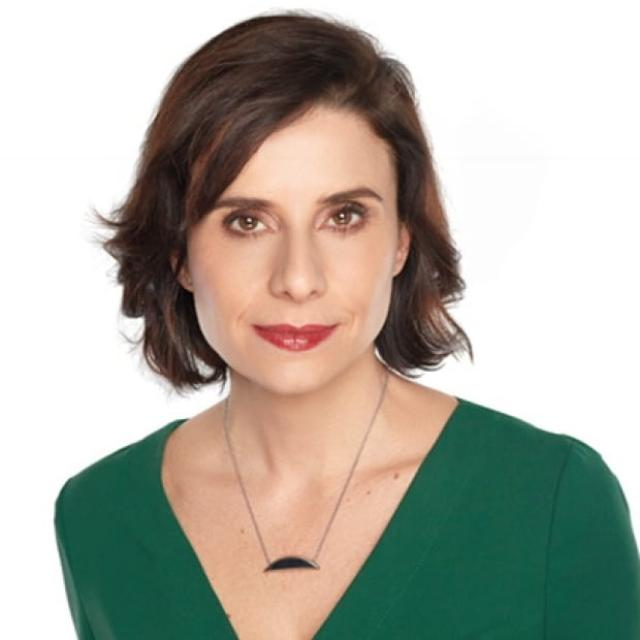mobile_phonerotation: (52, 8, 639, 639)
